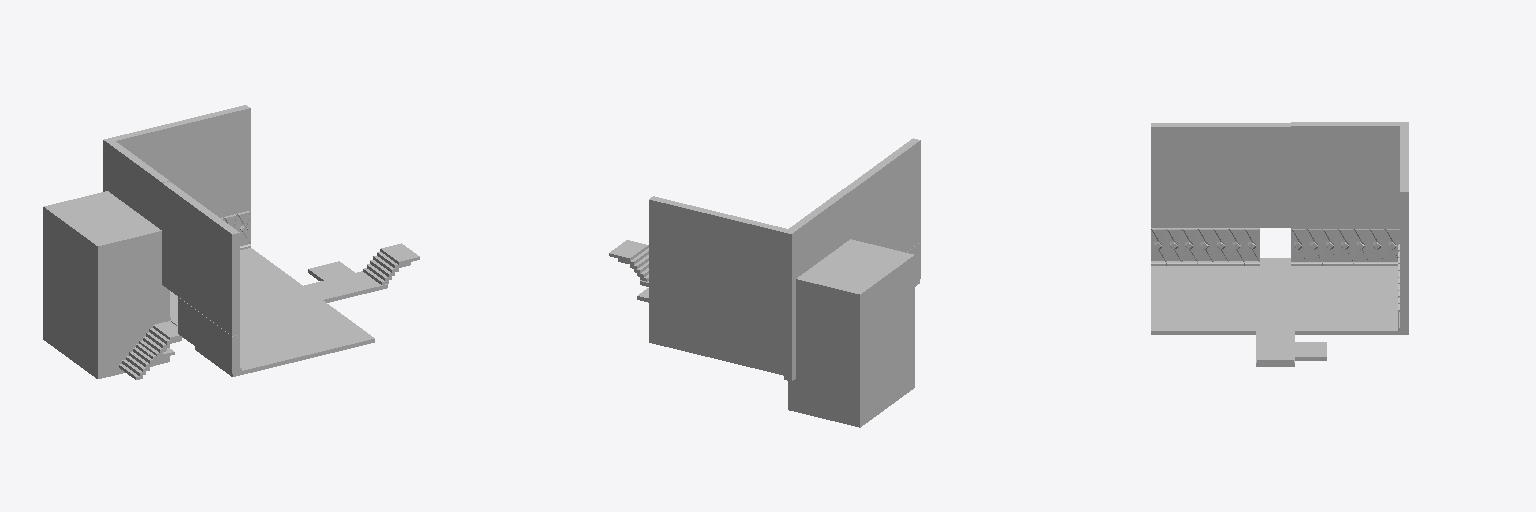
The model's file is Level1.obj.
The picture shows the model from 3 angles: view 1: azimuth 30°, elevation 25°; view 2: azimuth 150°, elevation 25°; view 3: azimuth 270°, elevation 25°; orthographic projection.
Parts seen in each view (by area): view 1: Cube_Cube.020, Cube.000_Cube.018, Stairs.002_Cube.005, Stairs_Cube.003, Stairs.001_Cube.004; view 2: Cube_Cube.020, Stairs.002_Cube.005; view 3: Cube_Cube.020, Cube.000_Cube.018, Stairs.002_Cube.005.
Boxes of the visible parts, <box> form: Cube_Cube.020: <box>43,105,387,378</box>; Cube.000_Cube.018: <box>162,211,250,373</box>; Stairs.002_Cube.005: <box>363,243,419,284</box>; Stairs_Cube.003: <box>136,321,182,359</box>; Stairs.001_Cube.004: <box>119,344,174,379</box>; Cube_Cube.020: <box>637,138,920,427</box>; Stairs.002_Cube.005: <box>609,240,648,281</box>; Cube_Cube.020: <box>1151,122,1408,366</box>; Cube.000_Cube.018: <box>1151,228,1399,330</box>; Stairs.002_Cube.005: <box>1257,349,1293,363</box>.
Size of the model in its own units: 78.22 by 44.37 by 57.39.